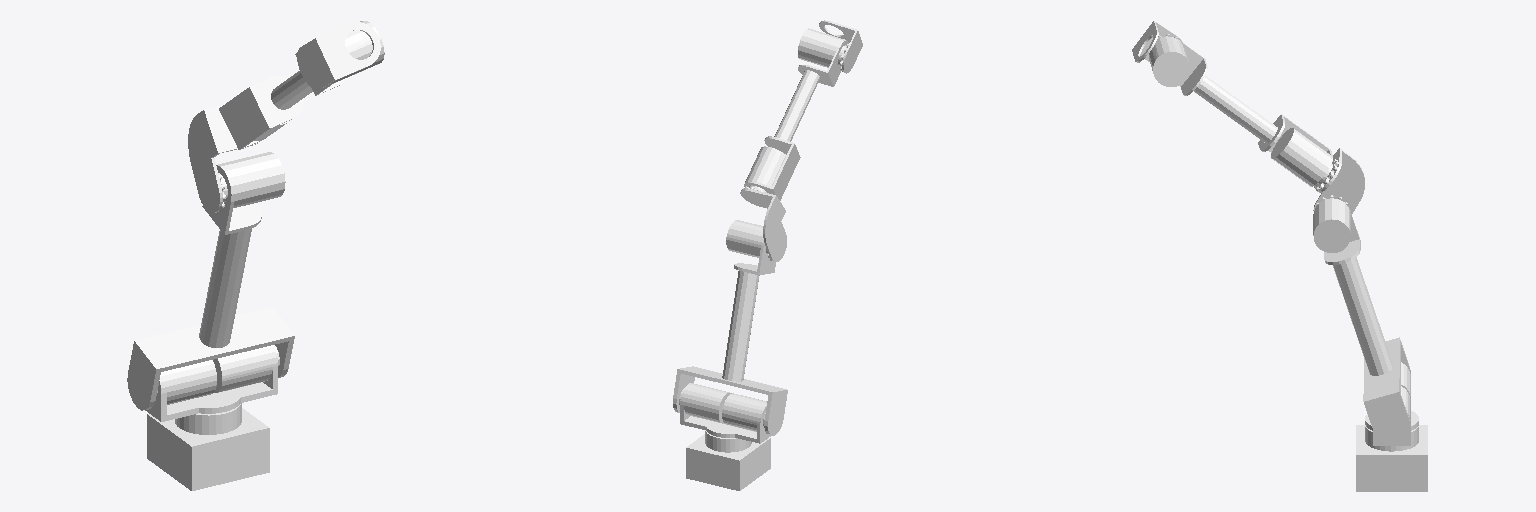
robot.urdf — arm_simulation:
<?xml version="1.0" encoding="utf-8"?>
<!-- This URDF was automatically created by SolidWorks to URDF Exporter! Originally created by [author] ([email redacted]) 
     Commit Version: 1.6.0-1-g15f4949  Build Version: 1.6.7594.29634
     For more information, please see http://wiki.ros.org/sw_urdf_exporter -->
<robot name="arm_simulation">

  <!-- <link name="world" />

  <joint name="world_joint" type="fixed">
    <parent link="world" />
    <child link = "base_link" />
    <origin xyz="0 0 0" rpy="0 0 0" />
  </joint> -->

  <link
    name="base_link">
    <inertial>
      <origin
        xyz="2.5854E-18 0.033569 -8.8155E-18"
        rpy="0 0 0" />
      <mass
        value="0.65122" />
      <inertia
        ixx="0.00076886"
        ixy="1.7596E-20"
        ixz="4.7253E-20"
        iyy="0.00099048"
        iyz="5.5864E-20"
        izz="0.00076886" />
    </inertial>
    <visual>
      <origin
        xyz="0 0 0"
        rpy="1.57079632679 0 0" />
      <geometry>
        <mesh
          filename="package://arm_simulation/meshes/base_link.STL" />
      </geometry>
      <material
        name="">
        <color
          rgba="1 1 1 1" />
      </material>
    </visual>
    <collision>
      <origin
        xyz="0 0 0"
        rpy="1.57079632679 0 0" />
      <geometry>
        <mesh
          filename="package://arm_simulation/meshes/base_link.STL" />
      </geometry>
    </collision>
  </link>
  <link
    name="link1">
    <inertial>
      <origin
        xyz="-6.2872E-18 7.6755E-18 0.035846"
        rpy="0 0 0" />
      <mass
        value="0.37205" />
      <inertia
        ixx="0.00018192"
        ixy="1.6333E-06"
        ixz="2.68E-21"
        iyy="0.00080831"
        iyz="-7.0181E-21"
        izz="0.0007698" />
    </inertial>
    <visual>
      <origin
        xyz="0 0 0"
        rpy="0 0 0" />
      <geometry>
        <mesh
          filename="package://arm_simulation/meshes/link1.STL" />
      </geometry>
      <material
        name="">
        <color
          rgba="1 1 1 1" />
      </material>
    </visual>
    <collision>
      <origin
        xyz="0 0 0"
        rpy="0 0 0" />
      <geometry>
        <mesh
          filename="package://arm_simulation/meshes/link1.STL" />
      </geometry>
    </collision>
  </link>
  <joint
    name="joint1"
    type="revolute">
    <origin
      xyz="0 0 0.074"
      rpy="0 0 0" />
    <parent
      link="base_link" />
    <child
      link="link1" />
    <axis
      xyz="0 0 1" />
    <limit
      lower="-3.14"
      upper="3.14"
      effort="2"
      velocity="0" />
  </joint>
  <link
    name="link2">
    <inertial>
      <origin
        xyz="0.00027312 -6.8025E-07 0.11528"
        rpy="0 0 0" />
      <mass
        value="0.46302" />
      <inertia
        ixx="0.0050956"
        ixy="1.5226E-06"
        ixz="-2.4094E-05"
        iyy="0.0057069"
        iyz="6.0009E-08"
        izz="0.00074387" />
    </inertial>
    <visual>
      <origin
        xyz="0 0 0"
        rpy="0 0 0" />
      <geometry>
        <mesh
          filename="package://arm_simulation/meshes/link2.STL" />
      </geometry>
      <material
        name="">
        <color
          rgba="1 1 1 1" />
      </material>
    </visual>
    <collision>
      <origin
        xyz="0 0 0"
        rpy="0 0 0" />
      <geometry>
        <mesh
          filename="package://arm_simulation/meshes/link2.STL" />
      </geometry>
    </collision>
  </link>
  <joint
    name="joint2"
    type="revolute">
    <origin
      xyz="-0.089 0.00023207 0.042"
      rpy="0.30054 -0.00073734 -0.00022852" />
    <parent
      link="link1" />
    <child
      link="link2" />
    <axis
      xyz="-1 0.0024907 0" />
    <limit
      lower="-1.57"
      upper="1.57"
      effort="2"
      velocity="0" />
  </joint>
  <link
    name="link3">
    <inertial>
      <origin
        xyz="-0.0046535 0.020103 0.038177"
        rpy="0 0 0" />
      <mass
        value="0.06371" />
      <inertia
        ixx="9.6305E-05"
        ixy="2.2401E-05"
        ixz="2.2964E-05"
        iyy="9.2394E-05"
        iyz="-3.1351E-05"
        izz="6.149E-05" />
    </inertial>
    <visual>
      <origin
        xyz="0 0 0"
        rpy="0 0 0" />
      <geometry>
        <mesh
          filename="package://arm_simulation/meshes/link3.STL" />
      </geometry>
      <material
        name="">
        <color
          rgba="1 1 1 1" />
      </material>
    </visual>
    <collision>
      <origin
        xyz="0 0 0"
        rpy="0 0 0" />
      <geometry>
        <mesh
          filename="package://arm_simulation/meshes/link3.STL" />
      </geometry>
    </collision>
  </link>
  <joint
    name="joint3"
    type="revolute">
    <origin
      xyz="0.05725 -0.00014259 0.2789"
      rpy="0.79723 -0.0016401 3.1407" />
    <parent
      link="link2" />
    <child
      link="link3" />
    <axis
      xyz="1 -0.0022925 0" />
    <limit
      lower="-1.57"
      upper="1.57"
      effort="2"
      velocity="0" />
  </joint>
  <link
    name="link4">
    <inertial>
      <origin
        xyz="0 -0.0016144 0.1471"
        rpy="0 0 0" />
      <mass
        value="0.41614" />
      <inertia
        ixx="0.0046604"
        ixy="5.421E-20"
        ixz="-2.0329E-20"
        iyy="0.004614"
        iyz="-5.9856E-05"
        izz="0.00017165" />
    </inertial>
    <visual>
      <origin
        xyz="0 0 0"
        rpy="0 0 0" />
      <geometry>
        <mesh
          filename="package://arm_simulation/meshes/link4.STL" />
      </geometry>
      <material
        name="">
        <color
          rgba="1 1 1 1" />
      </material>
    </visual>
    <collision>
      <origin
        xyz="0 0 0"
        rpy="0 0 0" />
      <geometry>
        <mesh
          filename="package://arm_simulation/meshes/link4.STL" />
      </geometry>
    </collision>
  </link>
  <joint
    name="joint4"
    type="revolute">
    <origin
      xyz="-0.031631 0.052087 0.064988"
      rpy="0.7035 1.3411 2.2852" />
    <parent
      link="link3" />
    <child
      link="link4" />
    <axis
      xyz="0 0 1" />
    <limit
      lower="-3.14"
      upper="3.14"
      effort="2"
      velocity="0" />
  </joint>
  <link
    name="link5">
    <inertial>
      <origin
        xyz="0.0026601 0.00039794 0.012151"
        rpy="0 0 0" />
      <mass
        value="0.030074" />
      <inertia
        ixx="1.6785E-05"
        ixy="-2.2863E-07"
        ixz="4.4532E-06"
        iyy="1.8279E-05"
        iyz="6.6617E-07"
        izz="1.2072E-05" />
    </inertial>
    <visual>
      <origin
        xyz="0 0 0"
        rpy="0 0 0" />
      <geometry>
        <mesh
          filename="package://arm_simulation/meshes/link5.STL" />
      </geometry>
      <material
        name="">
        <color
          rgba="1 1 1 1" />
      </material>
    </visual>
    <collision>
      <origin
        xyz="0 0 0"
        rpy="0 0 0" />
      <geometry>
        <mesh
          filename="package://arm_simulation/meshes/link5.STL" />
      </geometry>
    </collision>
  </link>
  <joint
    name="joint5"
    type="revolute">
    <origin
      xyz="0 -0.034 0.2684"
      rpy="-0.0364343502514425 -0.00544912780563413 -1.71919063956753" />
    <parent
      link="link4" />
    <child
      link="link5" />
    <axis
      xyz="-0.999983629434664 0.00154627583027758 0.00550907376364283" />
    <limit
      lower="-1.57"
      upper="1.57"
      effort="2"
      velocity="0" />
  </joint>
</robot>

--- Render facts (derived) ---
3 views of the same robot in one strip: view 1: azimuth 30°, elevation 25°; view 2: azimuth 150°, elevation 25°; view 3: azimuth 270°, elevation 25° (orthographic).
Robot: arm_simulation — 6 links, 5 joints (5 revolute); root link base_link; default pose: all joints at 0.
Visible links, largest first — view 1: link2, base_link, link1, link4, link3, link5; view 2: link2, link4, link1, base_link, link3, link5; view 3: link2, link4, base_link, link3, link1, link5.
Boxes of the visible links, x1=… form: link2: x1=127, y1=152, x2=294, y2=410; base_link: x1=147, y1=403, x2=269, y2=490; link1: x1=145, y1=345, x2=277, y2=421; link4: x1=219, y1=21, x2=384, y2=149; link3: x1=188, y1=105, x2=262, y2=212; link5: x1=297, y1=22, x2=380, y2=89; link2: x1=673, y1=220, x2=787, y2=435; link4: x1=744, y1=28, x2=848, y2=200; link1: x1=680, y1=383, x2=770, y2=443; base_link: x1=686, y1=430, x2=770, y2=490; link3: x1=740, y1=185, x2=786, y2=261; link5: x1=819, y1=20, x2=862, y2=73; link2: x1=1313, y1=198, x2=1410, y2=443; link4: x1=1149, y1=36, x2=1332, y2=186; base_link: x1=1356, y1=425, x2=1427, y2=491; link3: x1=1313, y1=148, x2=1364, y2=213; link1: x1=1365, y1=362, x2=1418, y2=445; link5: x1=1132, y1=21, x2=1182, y2=62.
Size in the robot's own frame: 0.1782 by 0.4093 by 0.6758 metres.
Meshes: 6 distinct files referenced, 6 mesh visuals loaded (6 binary STL).
